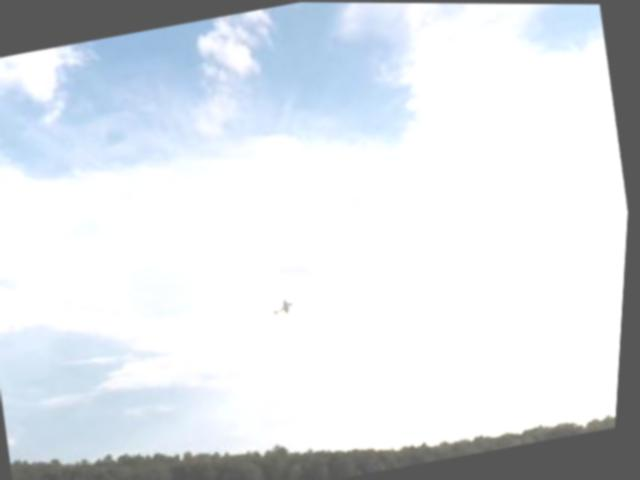uav: (270, 289, 303, 322)
